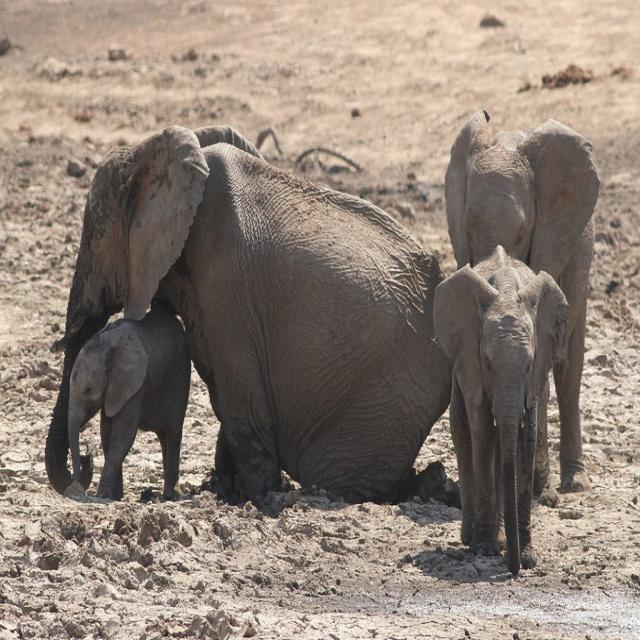elephant: (45, 127, 480, 538), (442, 112, 594, 568), (436, 244, 572, 576), (70, 311, 182, 534)
